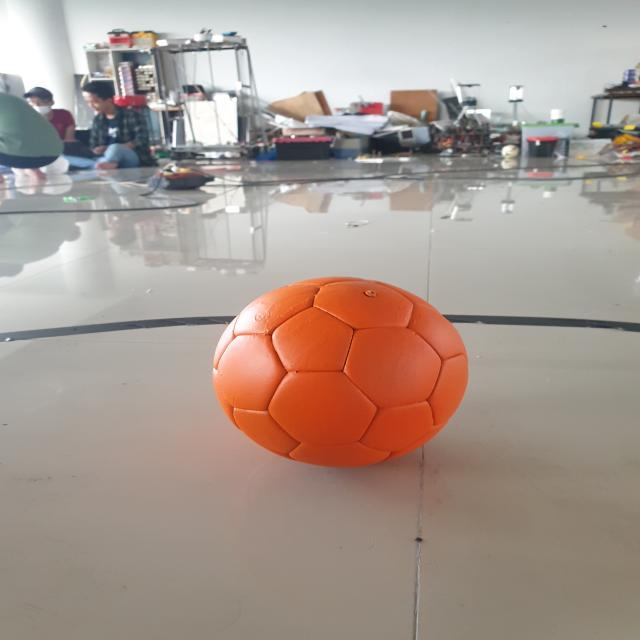bola: (200, 270, 485, 472)
